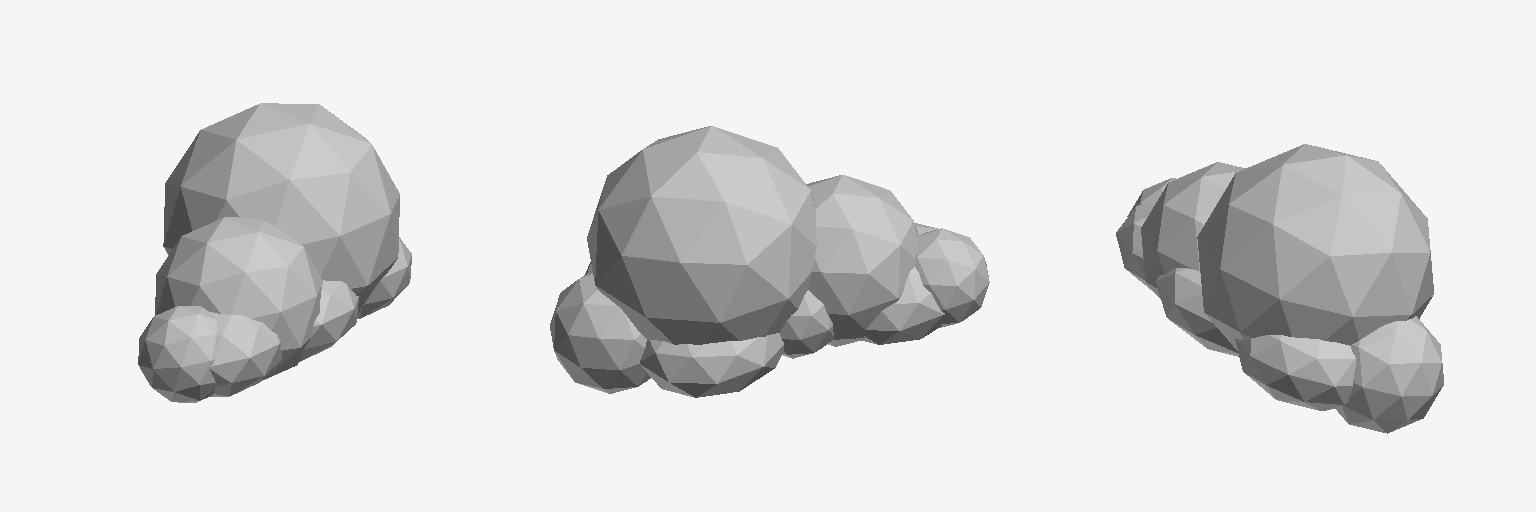
Rendered from cloud2.obj.
3 views of the same model, side by side, from view 1: azimuth 30°, elevation 25°; view 2: azimuth 150°, elevation 25°; view 3: azimuth 270°, elevation 25° (orthographic).
Visible parts, largest first — view 1: Icosphere.001, Icosphere.002_Icosphere.010, Icosphere.003_Icosphere.011, Icosphere.004_Icosphere.012, Icosphere.005_Icosphere.013, Icosphere.006_Icosphere.014; view 2: Icosphere.001, Icosphere.002_Icosphere.010, Icosphere.000_Icosphere.009, Icosphere.009_Icosphere.017, Icosphere.003_Icosphere.011, Icosphere.004_Icosphere.012, Icosphere.008_Icosphere.016; view 3: Icosphere.001, Icosphere.000_Icosphere.009, Icosphere.006_Icosphere.014, Icosphere.002_Icosphere.010, Icosphere.005_Icosphere.013, Icosphere.004_Icosphere.012.
Boxes of the visible parts, <box> form: Icosphere.001: <box>163,103,399,312</box>; Icosphere.002_Icosphere.010: <box>155,217,322,380</box>; Icosphere.003_Icosphere.011: <box>138,306,216,402</box>; Icosphere.004_Icosphere.012: <box>209,312,281,396</box>; Icosphere.005_Icosphere.013: <box>300,280,358,361</box>; Icosphere.006_Icosphere.014: <box>357,237,411,318</box>; Icosphere.001: <box>587,126,816,344</box>; Icosphere.002_Icosphere.010: <box>806,175,918,346</box>; Icosphere.000_Icosphere.009: <box>550,272,650,393</box>; Icosphere.009_Icosphere.017: <box>640,333,783,397</box>; Icosphere.003_Icosphere.011: <box>915,228,989,327</box>; Icosphere.004_Icosphere.012: <box>861,223,944,344</box>; Icosphere.008_Icosphere.016: <box>780,290,834,358</box>; Icosphere.001: <box>1197,144,1433,350</box>; Icosphere.000_Icosphere.009: <box>1335,316,1443,433</box>; Icosphere.006_Icosphere.014: <box>1235,335,1355,410</box>; Icosphere.002_Icosphere.010: <box>1141,162,1245,298</box>; Icosphere.005_Icosphere.013: <box>1155,268,1238,356</box>; Icosphere.004_Icosphere.012: <box>1116,204,1154,292</box>.
Size of the model in its own units: 6.11 by 4.29 by 5.36.